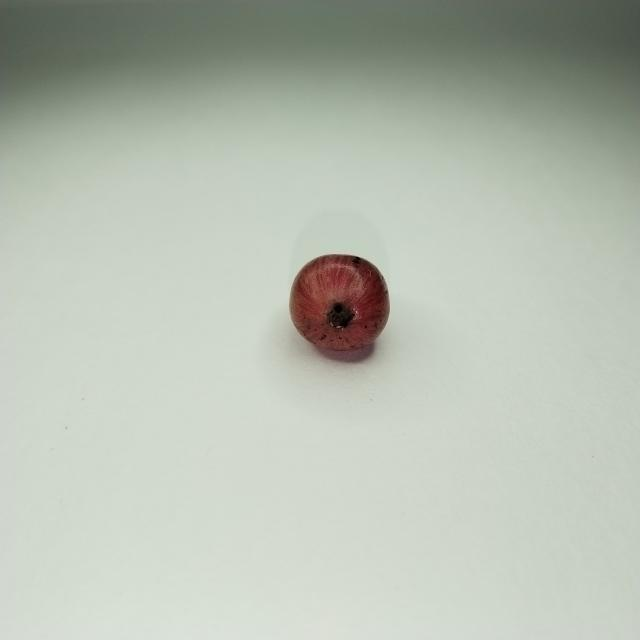Infectado: (288, 254, 392, 365)
